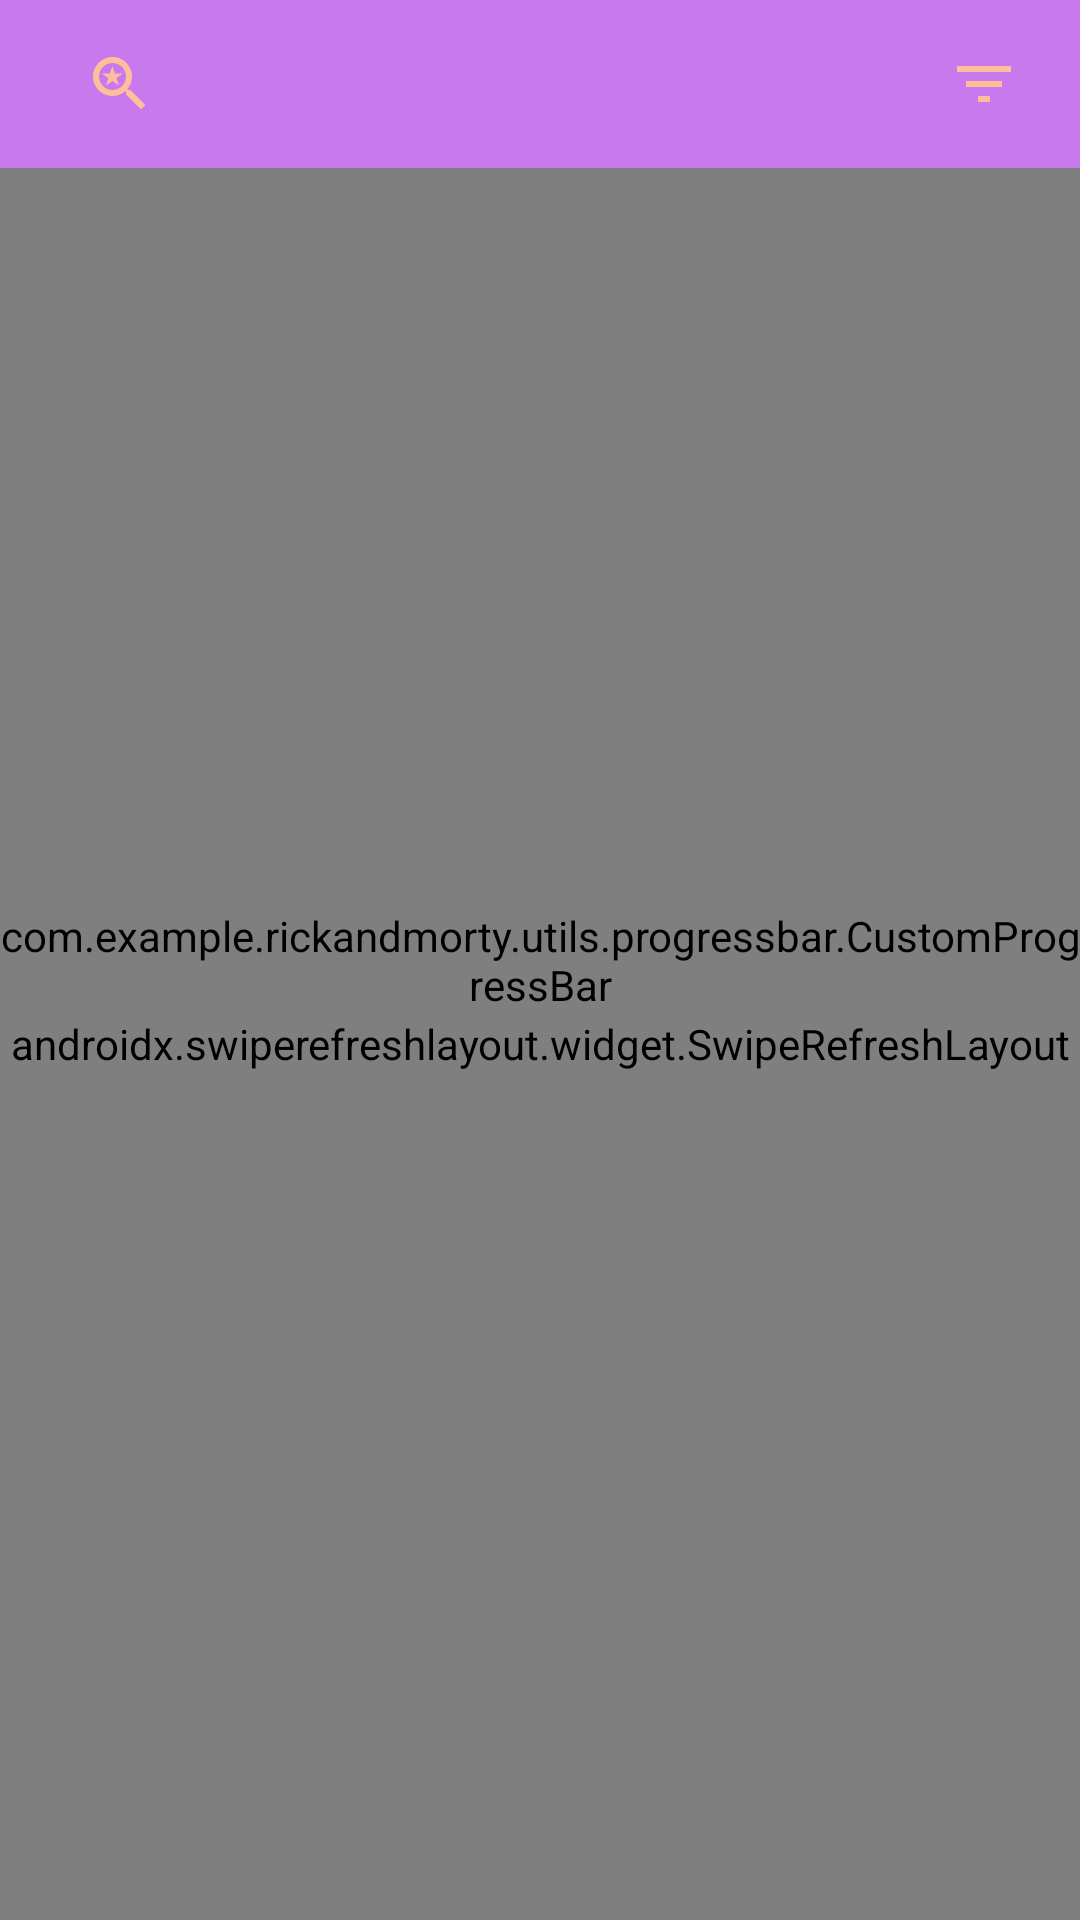

Where icons sit on this 1080 x 1920 app screen, as (x1, y1, x2, y2):
filter list: (957, 66, 1011, 102)
